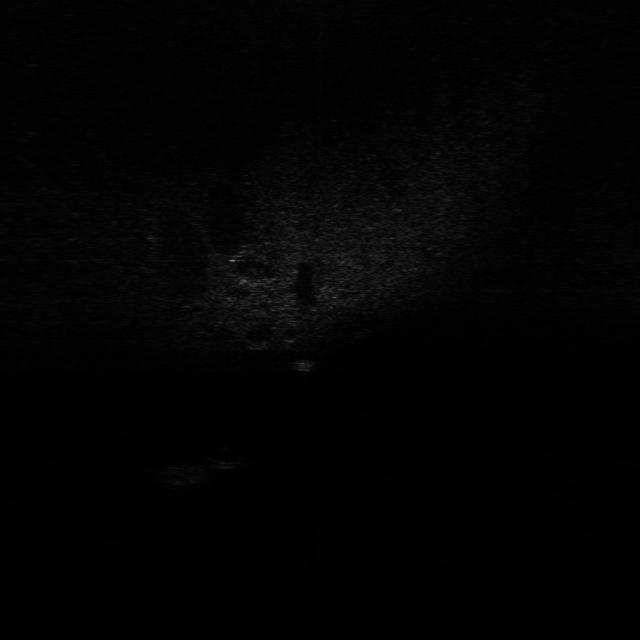ball: (206, 443, 247, 471)
circle cage: (148, 460, 218, 491)
cube: (293, 352, 322, 376)
